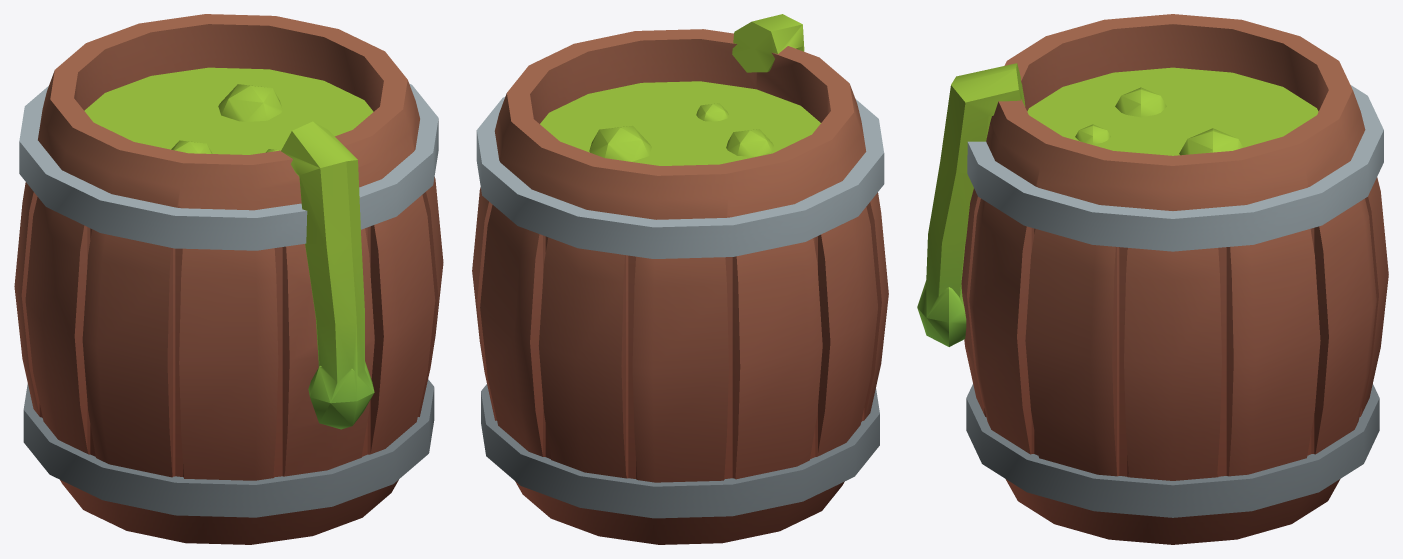
Rendered from goo_barrel.glb.
3 renders of one model, left to right at view 1: azimuth 30°, elevation 25°; view 2: azimuth 150°, elevation 25°; view 3: azimuth 270°, elevation 25°, orthographic. The views are drawn at different scales.
Parts seen in each view (by area): view 1: goo_barrel; view 2: goo_barrel; view 3: goo_barrel.
Boxes of the visible parts, x1=… form: goo_barrel: x1=14, y1=14, x2=443, y2=544; goo_barrel: x1=472, y1=14, x2=888, y2=544; goo_barrel: x1=917, y1=14, x2=1388, y2=544.
Bounding box in the file's own units: 1.08 × 1.13 × 1.18.
Materials: 1 (1 with a texture image).
